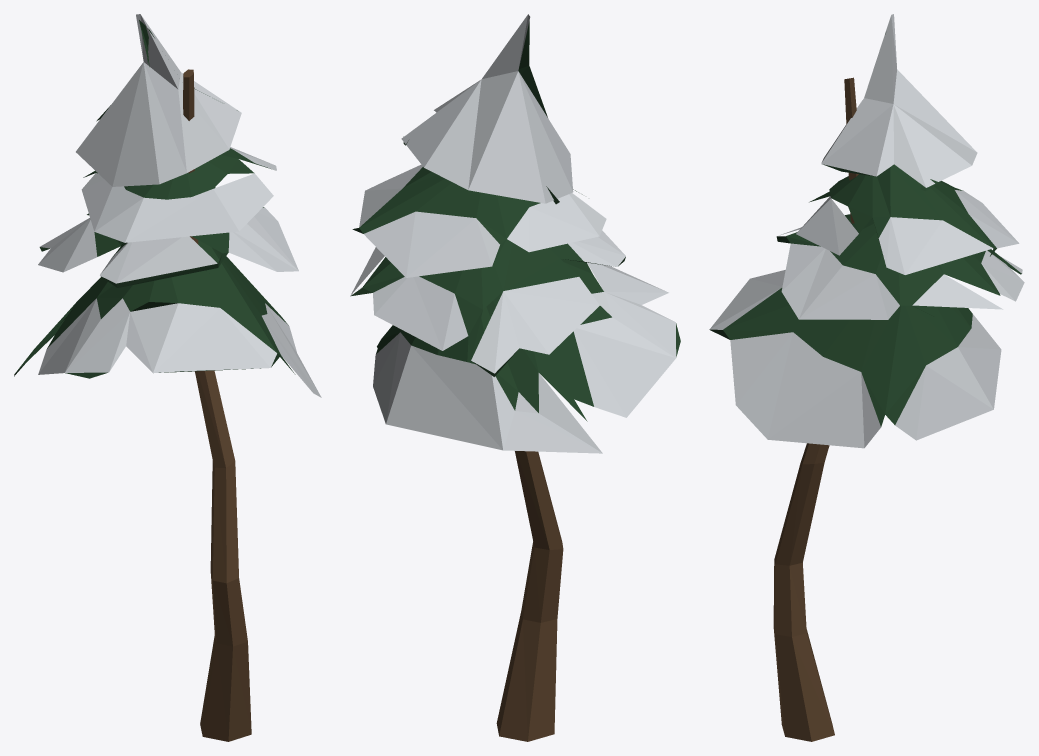
Rendered from pine_winter_1.glb.
The picture shows the model from 3 angles, left to right: view 1: azimuth 30°, elevation 25°; view 2: azimuth 150°, elevation 25°; view 3: azimuth 270°, elevation 25°; orthographic projection. The views are drawn at different scales.
Visible parts, largest first — view 1: lod0; view 2: lod0; view 3: lod0.
Boxes of the visible parts, x1=… form: lod0: x1=14, y1=14, x2=321, y2=741; lod0: x1=350, y1=14, x2=680, y2=741; lod0: x1=709, y1=14, x2=1024, y2=741.
Size of what is drawn, in the model's own units: 3.08 by 8.2 by 3.38.
